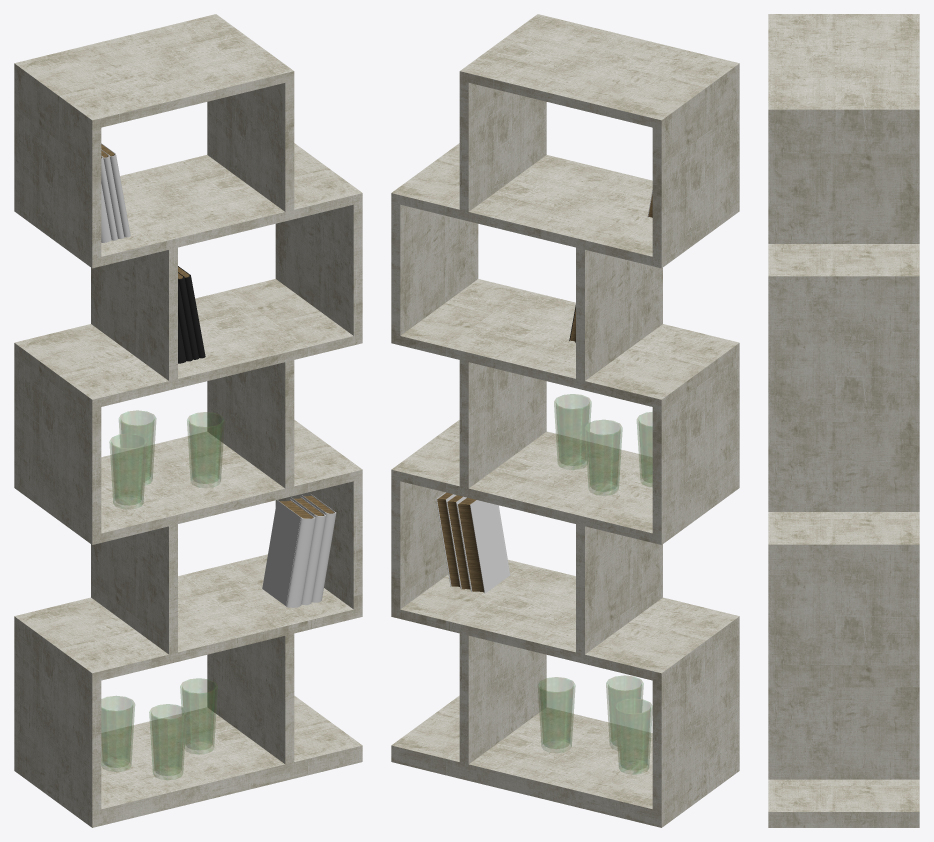
The model's file is shelf.dae.
3 renders of one model, left to right at view 1: azimuth 30°, elevation 25°; view 2: azimuth 150°, elevation 25°; view 3: azimuth 270°, elevation 25°, orthographic. The views are drawn at different scales.
Visible parts, largest first — view 1: Component_9, Component_10 (×3), Component_10_1_2 (×3), Component_11_1_2 (×3), Component_11 (×2), Component_2; view 2: Component_9, Component_10 (×3), Component_10_1_2 (×3), Component_11_1_2 (×3); view 3: Component_9.
Part boxes in pixels (left/top/right/bottom): Component_9: left=14, top=14, right=362, bottom=827; Component_10 (×3): left=101, top=678, right=217, bottom=779; Component_10_1_2 (×3): left=109, top=410, right=224, bottom=508; Component_11_1_2 (×3): left=262, top=494, right=336, bottom=607; Component_11 (×2): left=101, top=143, right=130, bottom=238; Component_2: left=178, top=266, right=205, bottom=358; Component_9: left=391, top=14, right=739, bottom=827; Component_10 (×3): left=538, top=675, right=652, bottom=774; Component_10_1_2 (×3): left=554, top=394, right=652, bottom=495; Component_11_1_2 (×3): left=436, top=492, right=510, bottom=593; Component_9: left=768, top=14, right=919, bottom=827.
Size of the model in its own units: 60 by 30 by 150.
